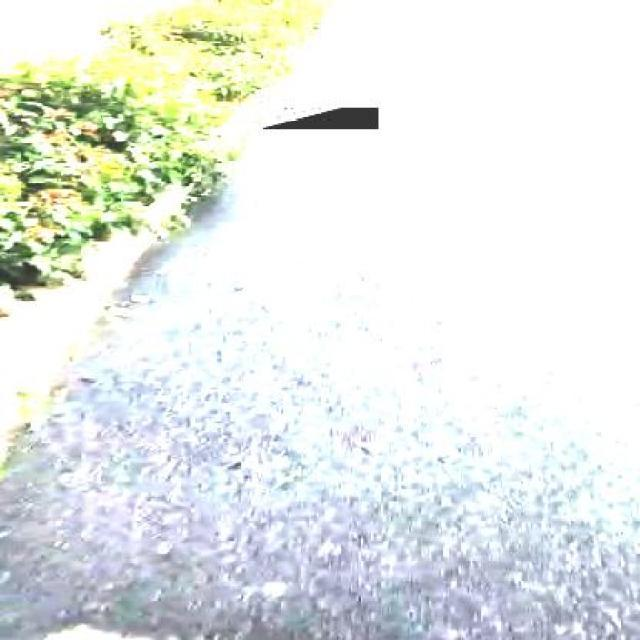Manhole: (263, 108, 379, 130)
